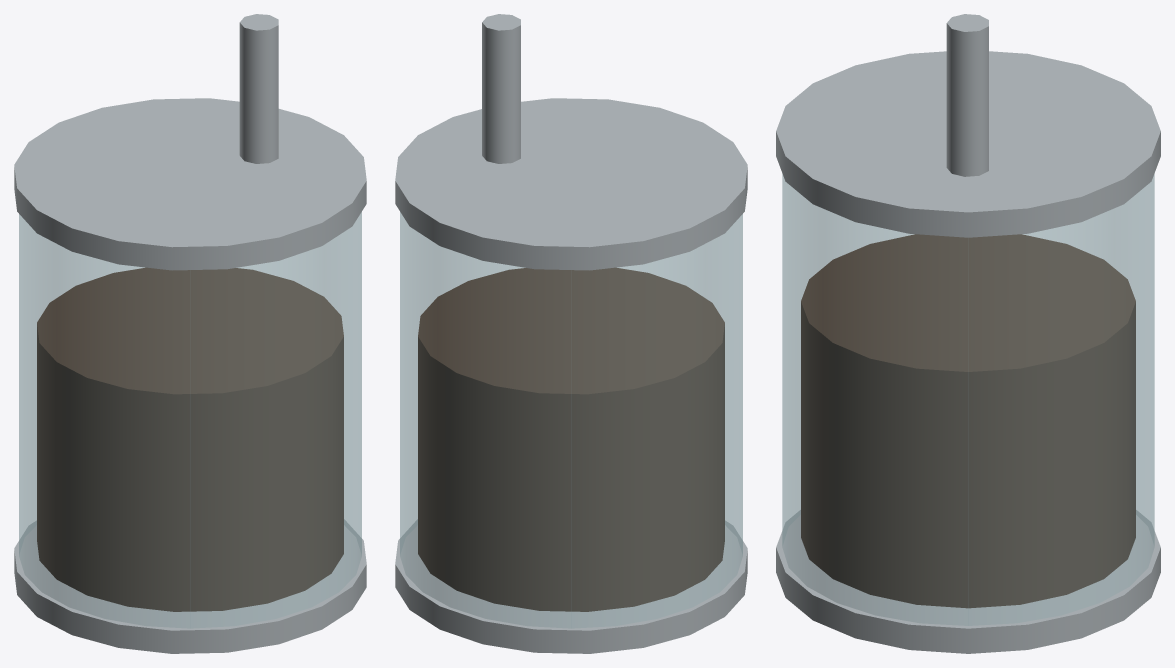
The model's file is catalogue-compost-reactor.glb.
The picture shows the model from 3 angles, left to right: view 1: azimuth 30°, elevation 25°; view 2: azimuth 150°, elevation 25°; view 3: azimuth 270°, elevation 25°; orthographic projection. The views are drawn at different scales.
Bounding box in the file's own units: 0.62 × 1.04 × 0.62.
